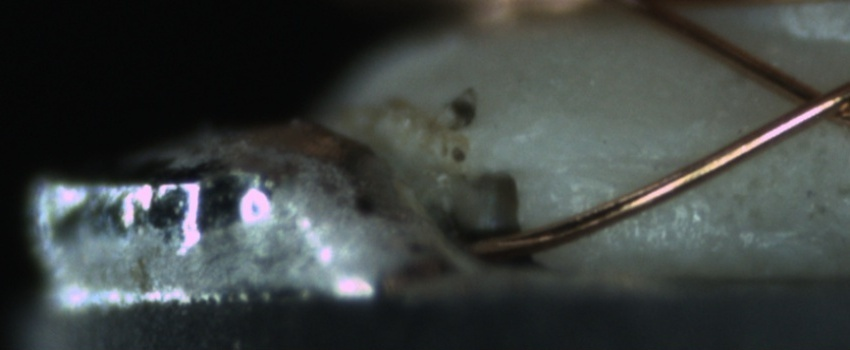CL: (771, 68, 848, 132)
DL: (564, 132, 695, 198)
